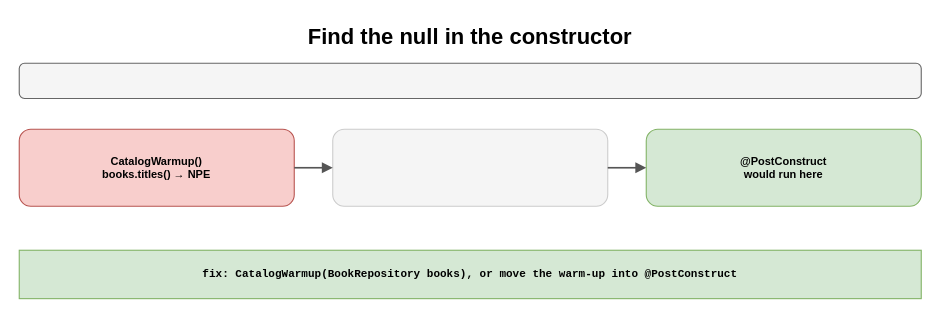
This 941x318 diagram has some shape labels left out. Here are the shapes that lost their labels. From the top down, the centre of each, then its label:
(x=469, y=80): Field injection happens after the constructor runs
(x=470, y=167): @Autowired field books injected (too late)
